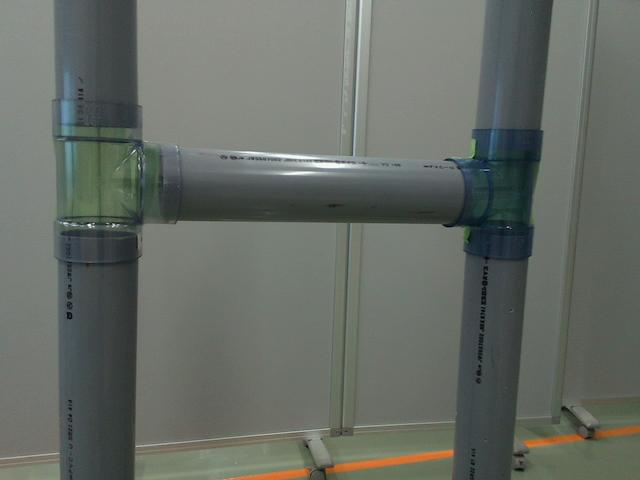junction: (52, 99, 177, 261), (444, 132, 546, 256)
